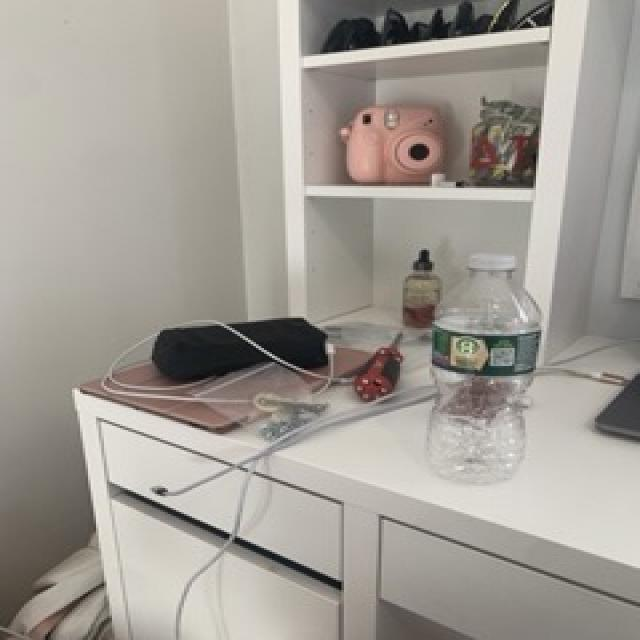water_bottle: (424, 254, 546, 492)
